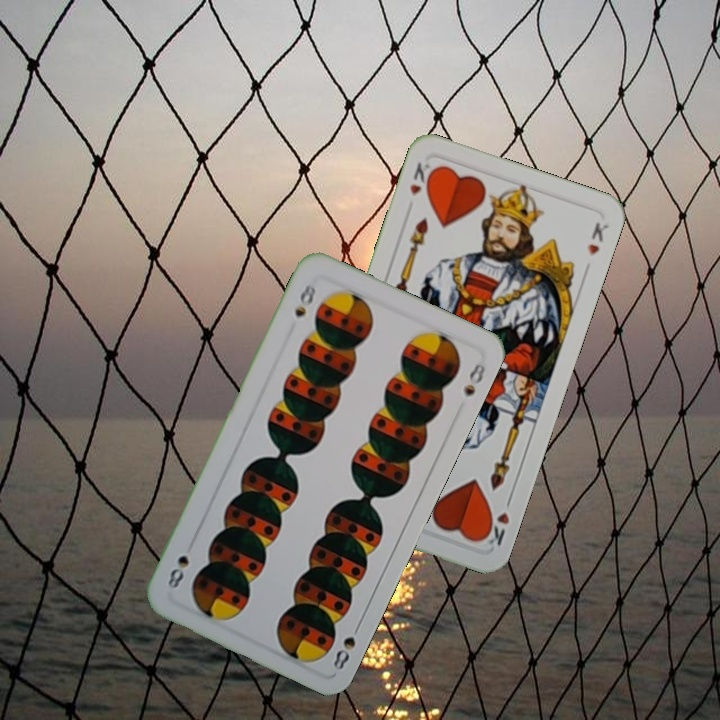HK: (477, 507, 512, 548), (405, 158, 438, 199)
S8: (329, 618, 364, 675), (290, 280, 319, 320)
